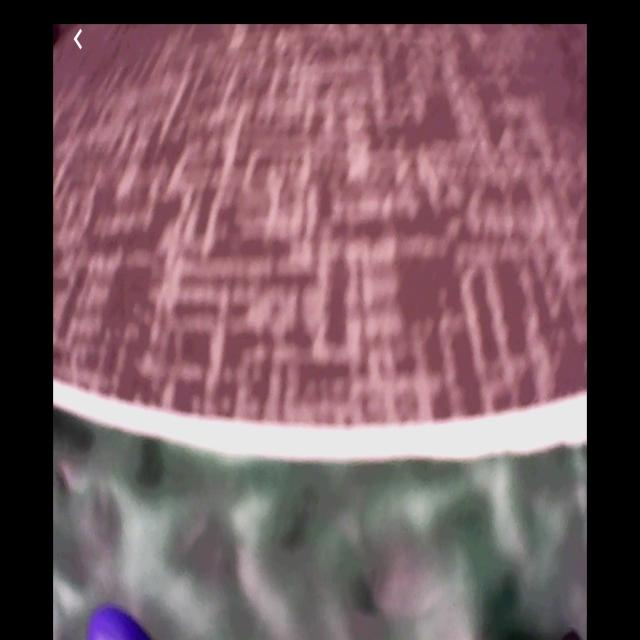ball: (85, 606, 155, 640)
